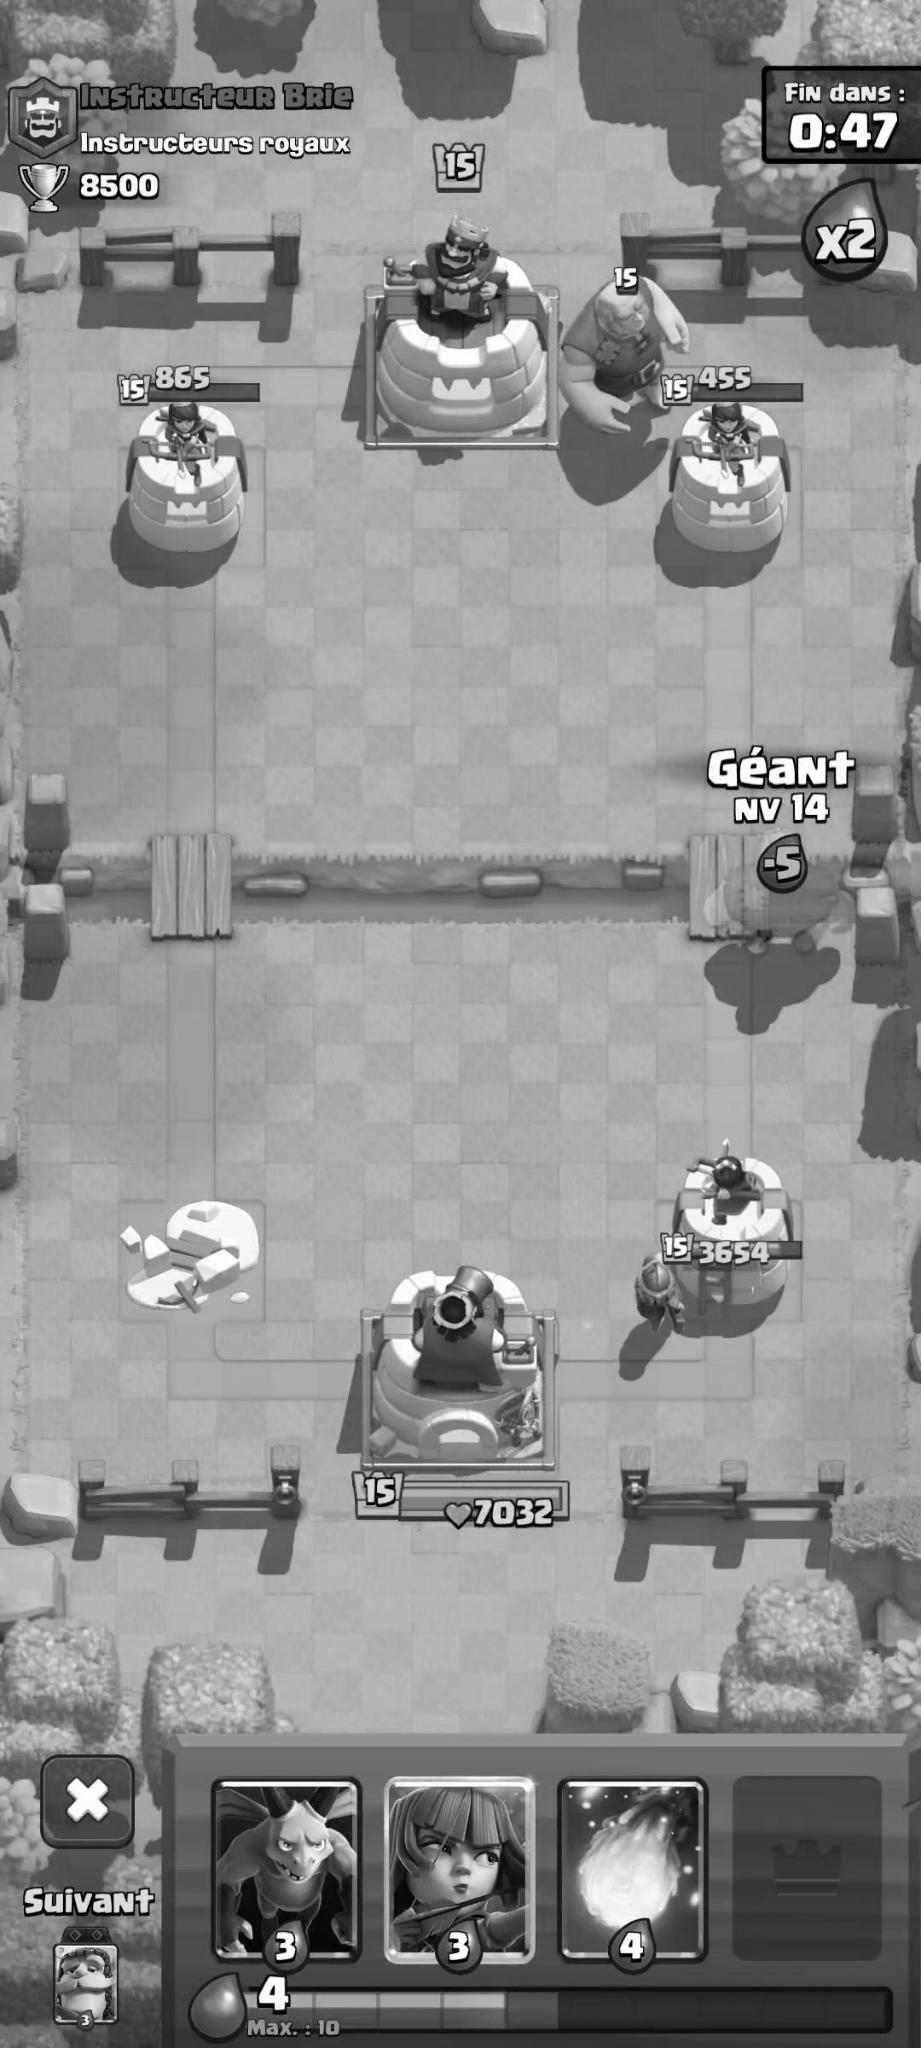geant: (543, 256, 708, 449)
mousquetaire: (617, 1217, 715, 1365)
